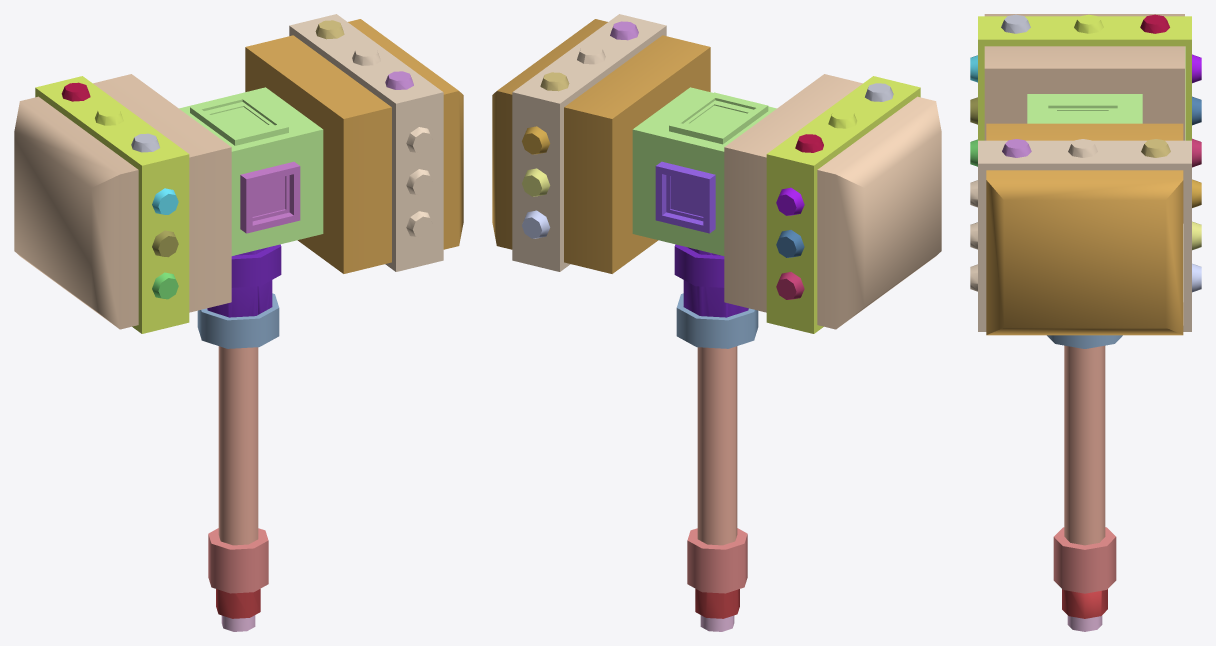
The picture shows the model from 3 angles, left to right: view 1: azimuth 30°, elevation 25°; view 2: azimuth 150°, elevation 25°; view 3: azimuth 270°, elevation 25°; orthographic projection.
Visible parts, largest first — view 1: maletLP_t_lambert1_0.041, maletLP_t_lambert1_0.072, split_parent_16, split_parent_21, maletLP_t_lambert1_0.076, maletLP_t_lambert1_0.018, maletLP_t_lambert1_0.045, split_parent_20, maletLP_t_lambert1_0.004, maletLP_t_lambert1_0.021, maletLP_t_lambert1_0.059; view 2: maletLP_t_lambert1_0.041, maletLP_t_lambert1_0.072, split_parent_21, split_parent_16, maletLP_t_lambert1_0.076, maletLP_t_lambert1_0.018, maletLP_t_lambert1_0.066, split_parent_20, maletLP_t_lambert1_0.004, maletLP_t_lambert1_0.021, maletLP_t_lambert1_0.059, maletLP_t_lambert1_0.011 (+2 smaller); view 3: maletLP_t_lambert1_0.072, maletLP_t_lambert1_0.041, split_parent_16, maletLP_t_lambert1_0.018, split_parent_21, maletLP_t_lambert1_0.076, maletLP_t_lambert1_0.004, maletLP_t_lambert1_0.059, maletLP_t_lambert1_0.021, maletLP_t_lambert1_0.061, maletLP_t_lambert1_0.006, maletLP_t_lambert1_0.012 (+2 smaller).
Part boxes in pixels (x1,y1,x2,y2): maletLP_t_lambert1_0.041: (14, 74, 231, 329); maletLP_t_lambert1_0.072: (245, 19, 463, 273); split_parent_16: (289, 14, 443, 271); split_parent_21: (35, 76, 189, 333); maletLP_t_lambert1_0.076: (179, 87, 323, 255); maletLP_t_lambert1_0.018: (218, 346, 258, 545); maletLP_t_lambert1_0.045: (240, 161, 300, 233); split_parent_20: (207, 244, 281, 317); maletLP_t_lambert1_0.004: (208, 528, 268, 593); maletLP_t_lambert1_0.021: (197, 293, 279, 348); maletLP_t_lambert1_0.059: (216, 589, 260, 618); maletLP_t_lambert1_0.041: (724, 74, 941, 329); maletLP_t_lambert1_0.072: (492, 19, 710, 273); split_parent_21: (766, 76, 920, 333); split_parent_16: (512, 14, 666, 271); maletLP_t_lambert1_0.076: (632, 87, 776, 255); maletLP_t_lambert1_0.018: (697, 346, 737, 545); maletLP_t_lambert1_0.066: (655, 161, 715, 233); split_parent_20: (674, 244, 748, 317); maletLP_t_lambert1_0.004: (687, 528, 747, 593); maletLP_t_lambert1_0.021: (676, 293, 758, 348); maletLP_t_lambert1_0.059: (695, 589, 739, 618); maletLP_t_lambert1_0.011: (776, 187, 804, 215); maletLP_t_lambert1_0.072: (986, 123, 1183, 335); maletLP_t_lambert1_0.041: (984, 14, 1184, 223); split_parent_16: (970, 139, 1191, 331); maletLP_t_lambert1_0.018: (1064, 345, 1105, 545); split_parent_21: (978, 14, 1191, 140); maletLP_t_lambert1_0.076: (1027, 94, 1142, 123); maletLP_t_lambert1_0.004: (1053, 527, 1116, 593); maletLP_t_lambert1_0.059: (1062, 589, 1107, 618); maletLP_t_lambert1_0.021: (1047, 335, 1122, 348); maletLP_t_lambert1_0.061: (1067, 615, 1102, 631); maletLP_t_lambert1_0.006: (1141, 139, 1170, 157); maletLP_t_lambert1_0.012: (1140, 14, 1169, 33).
Size of the model in its own units: 0.7143 by 1 by 0.3865.
